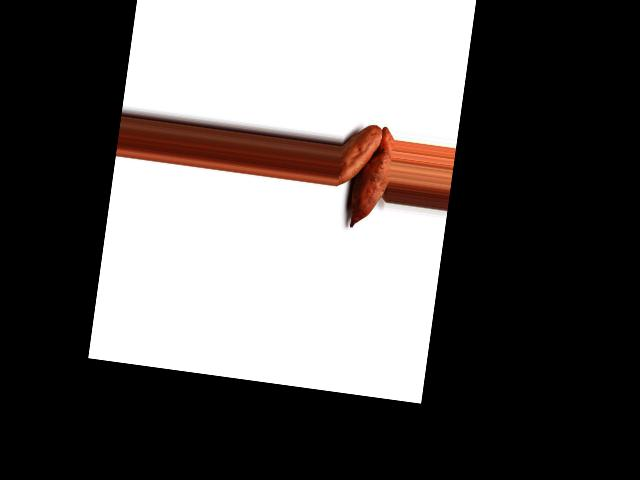sweet_potato: (335, 120, 382, 195)
